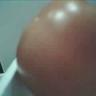tomato: (16, 0, 96, 96)
